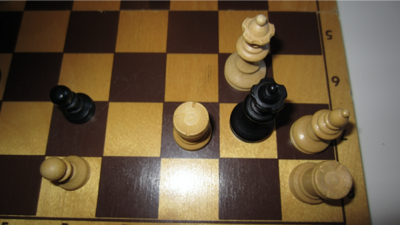black-pawn: (50, 85, 96, 125)
black-queen: (229, 78, 289, 144)
white-bishop: (289, 106, 351, 155)
white-pawn: (40, 155, 91, 192)
white-queen: (223, 14, 276, 94)
white-rook: (289, 161, 354, 205), (173, 101, 213, 151)
